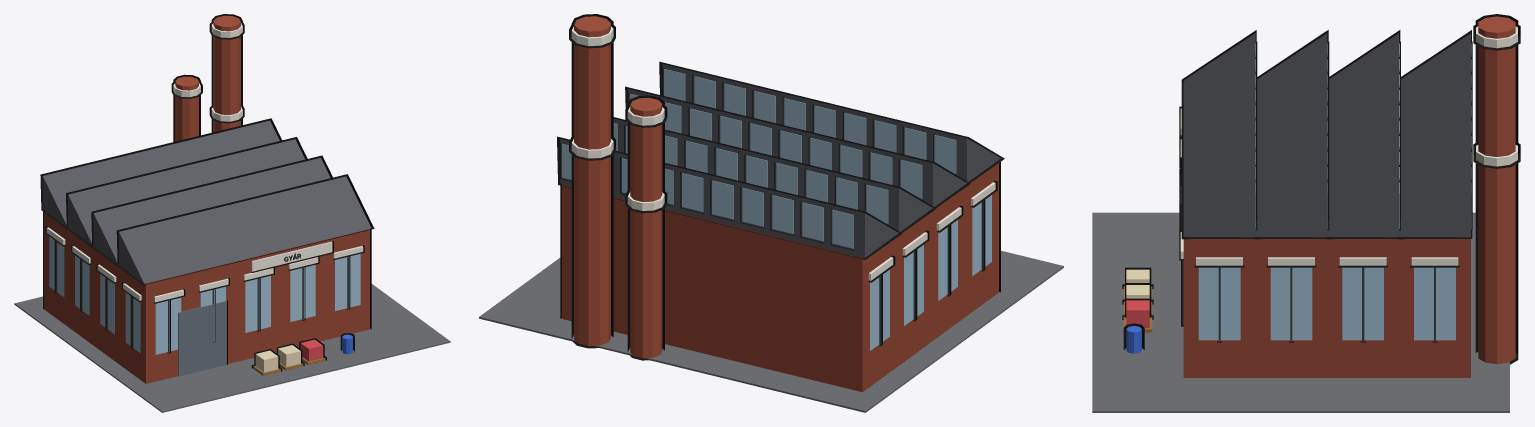
The model's file is Sanayi_fabrika_1.fbx.
3 views of the same model, side by side, from view 1: azimuth 30°, elevation 25°; view 2: azimuth 150°, elevation 25°; view 3: azimuth 270°, elevation 25° (orthographic). The views are drawn at different scales.
Parts seen in each view (by area): view 1: Sanayi_fabrika_1; view 2: Sanayi_fabrika_1; view 3: Sanayi_fabrika_1.
Boxes of the visible parts, bbox=[...] form: Sanayi_fabrika_1: bbox=[14, 14, 450, 412]; Sanayi_fabrika_1: bbox=[479, 14, 1063, 412]; Sanayi_fabrika_1: bbox=[1092, 14, 1520, 412].
Bounding box in the file's own units: 18 × 14.13 × 16.41.
